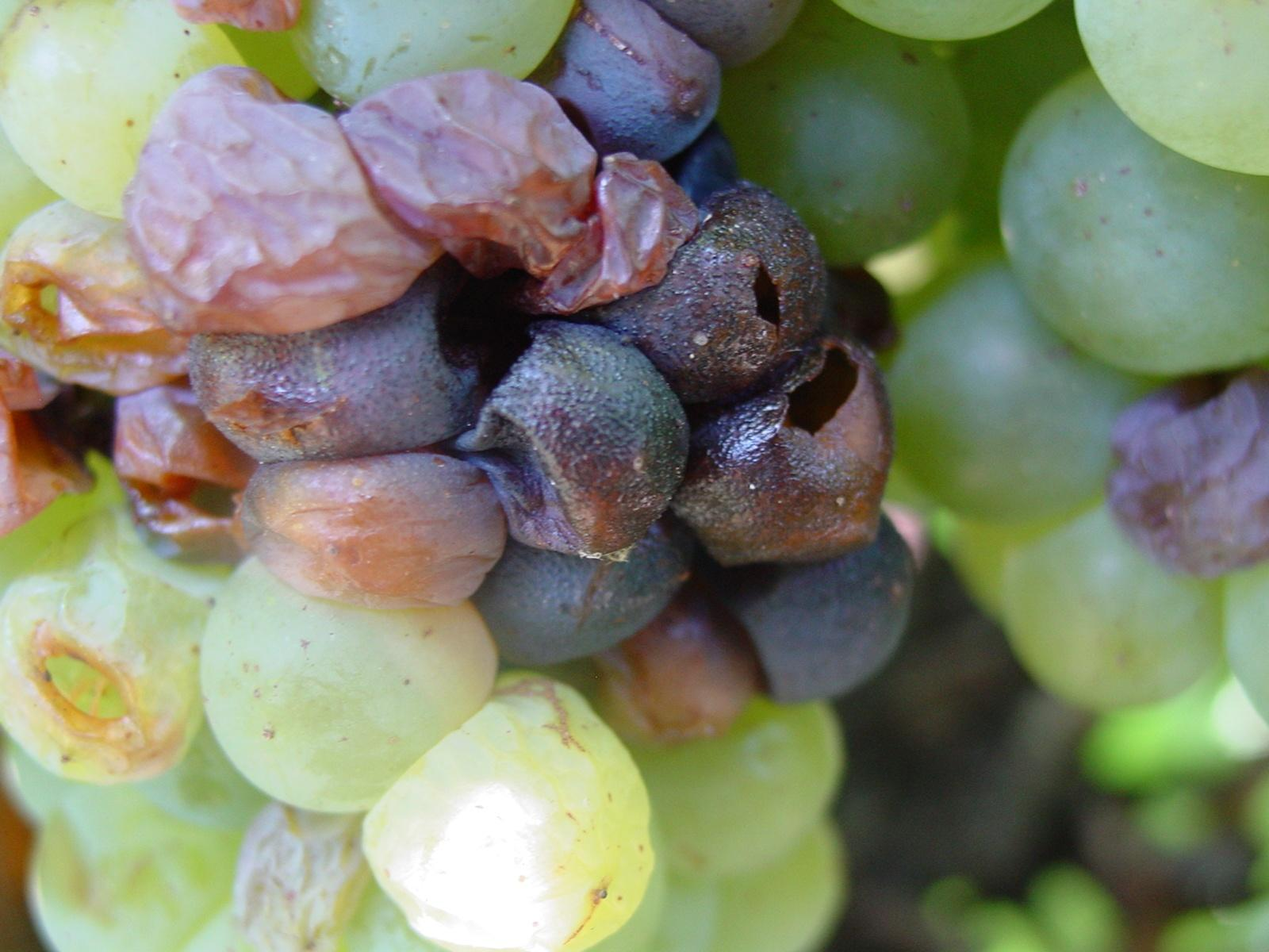Grape Rotten: (3, 2, 1264, 948)
